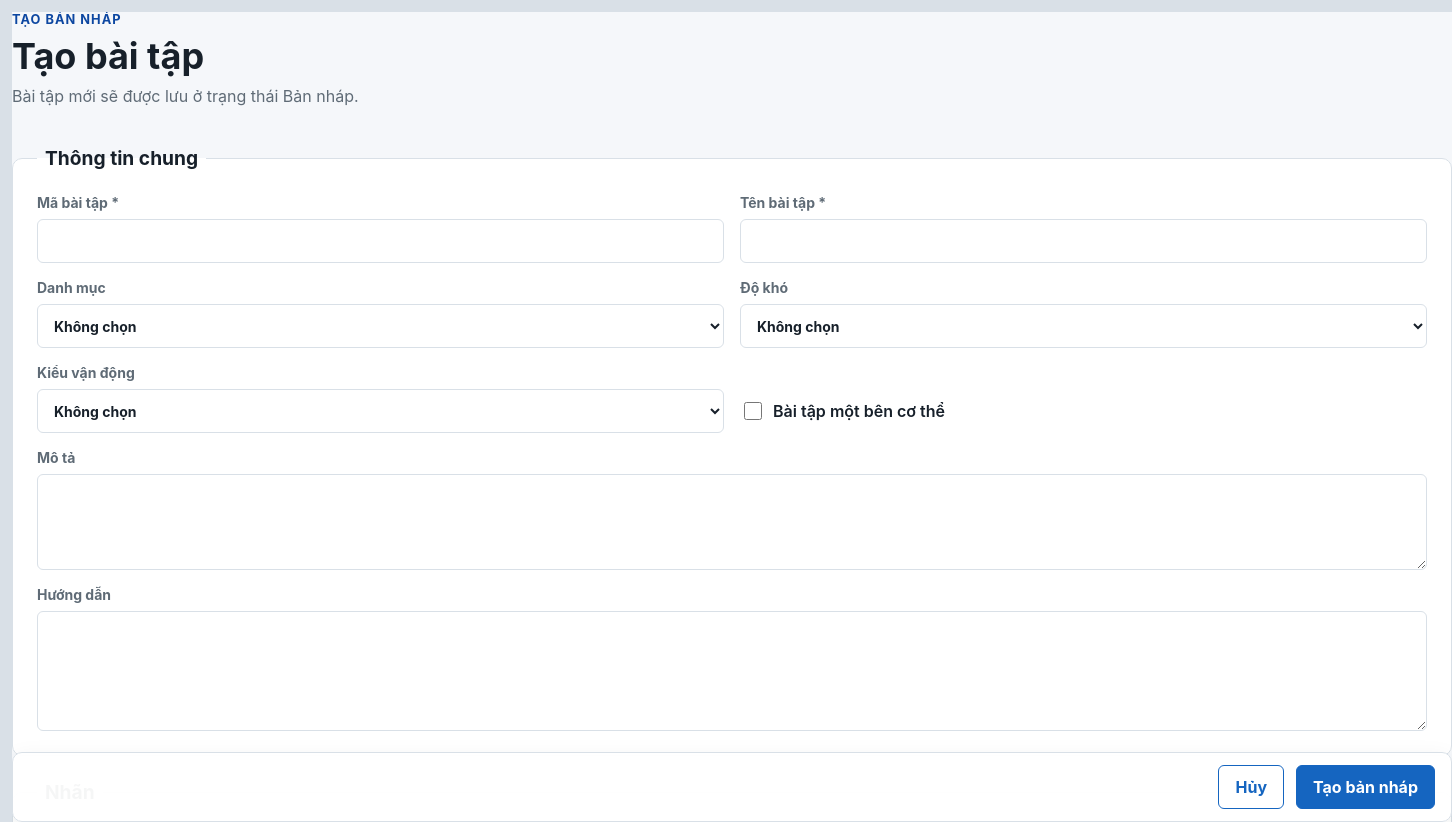
exercise draft create and edit flows › keeps local input after a server mutation error with safe copy
This screenshot has width=1452, height=822.
Type "LOCAL_DRAFT" into the field labelled "Mã bài tập *" at (380, 241), box [37,219,724,263]
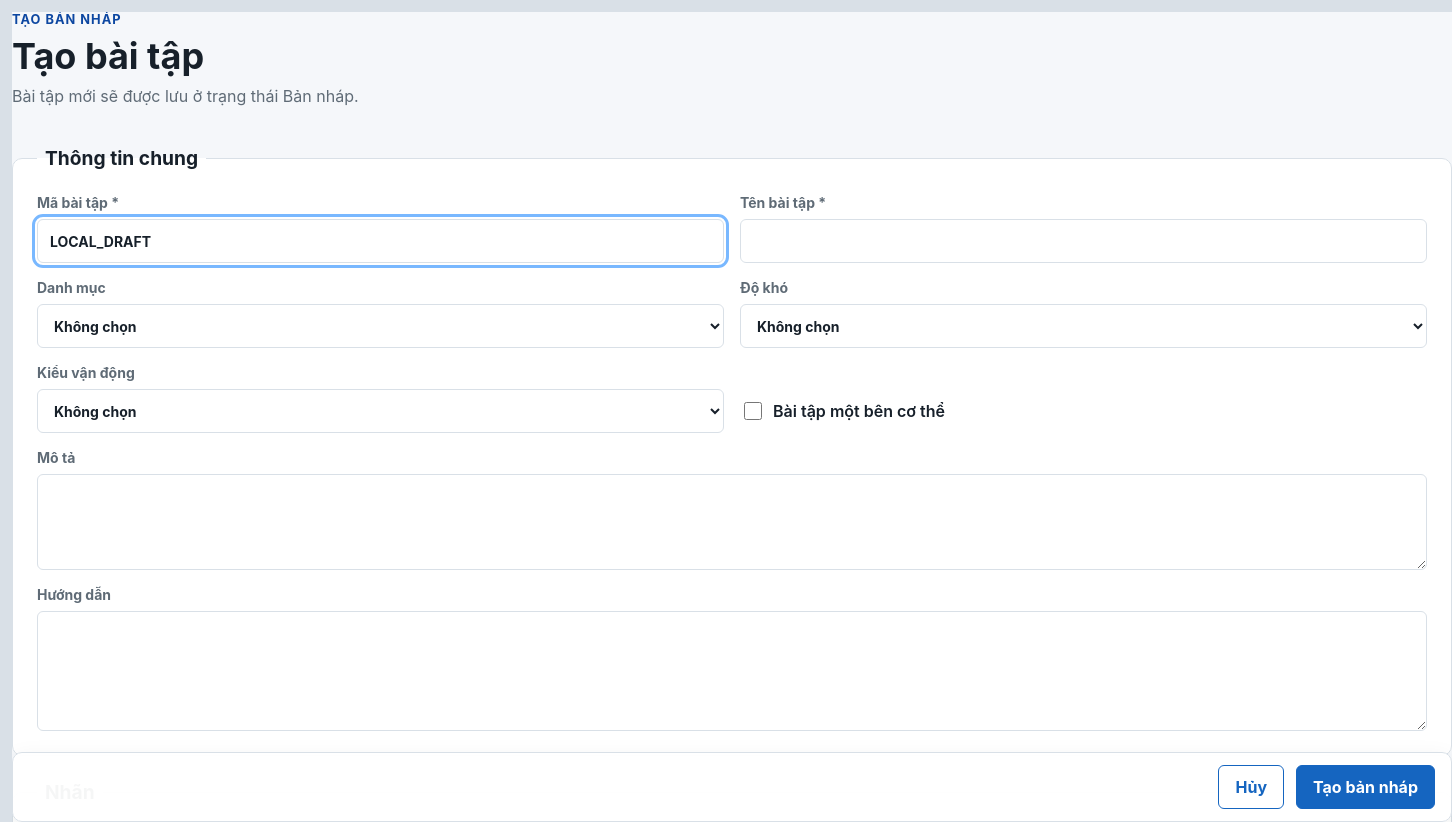
Type "Local Draft" into the field labelled "Tên bài tập *" at (1084, 241), box [740,219,1427,263]
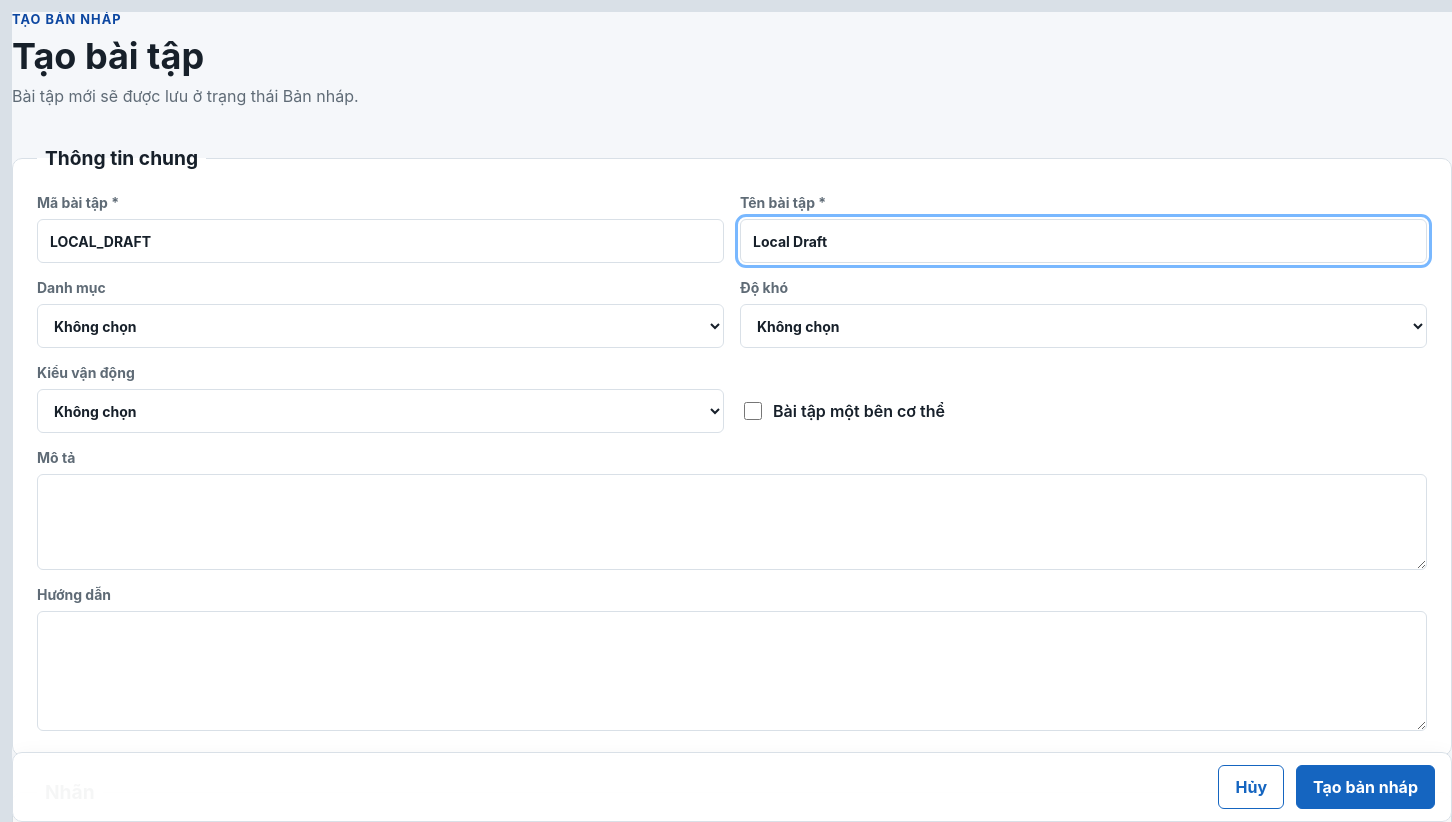
Click the button "Tạo bản nháp" at (1366, 787), box [1296,765,1435,809]
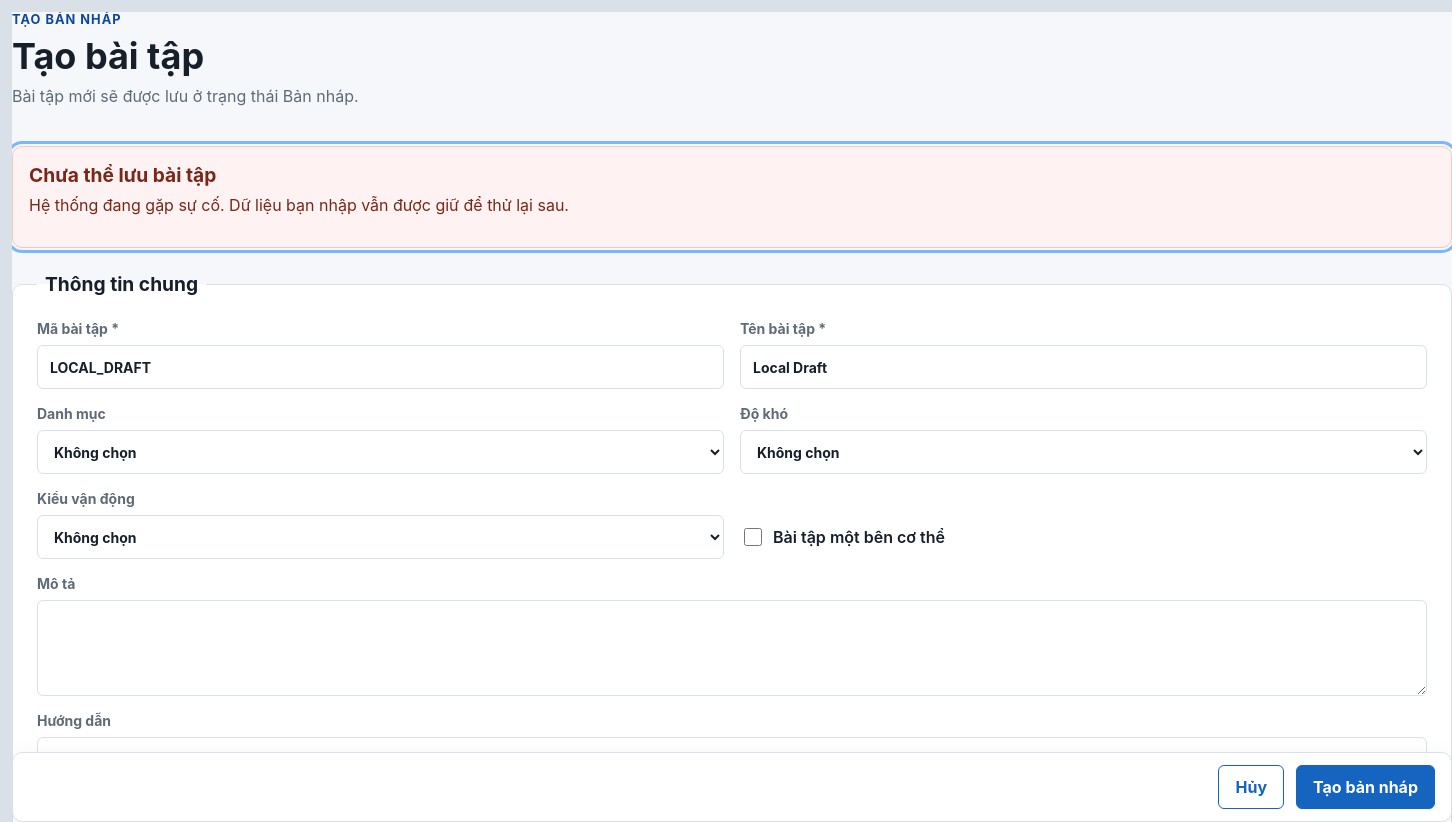
Result: the text "Hệ thống đang gặp sự cố" is shown at [29,195,569,215]
